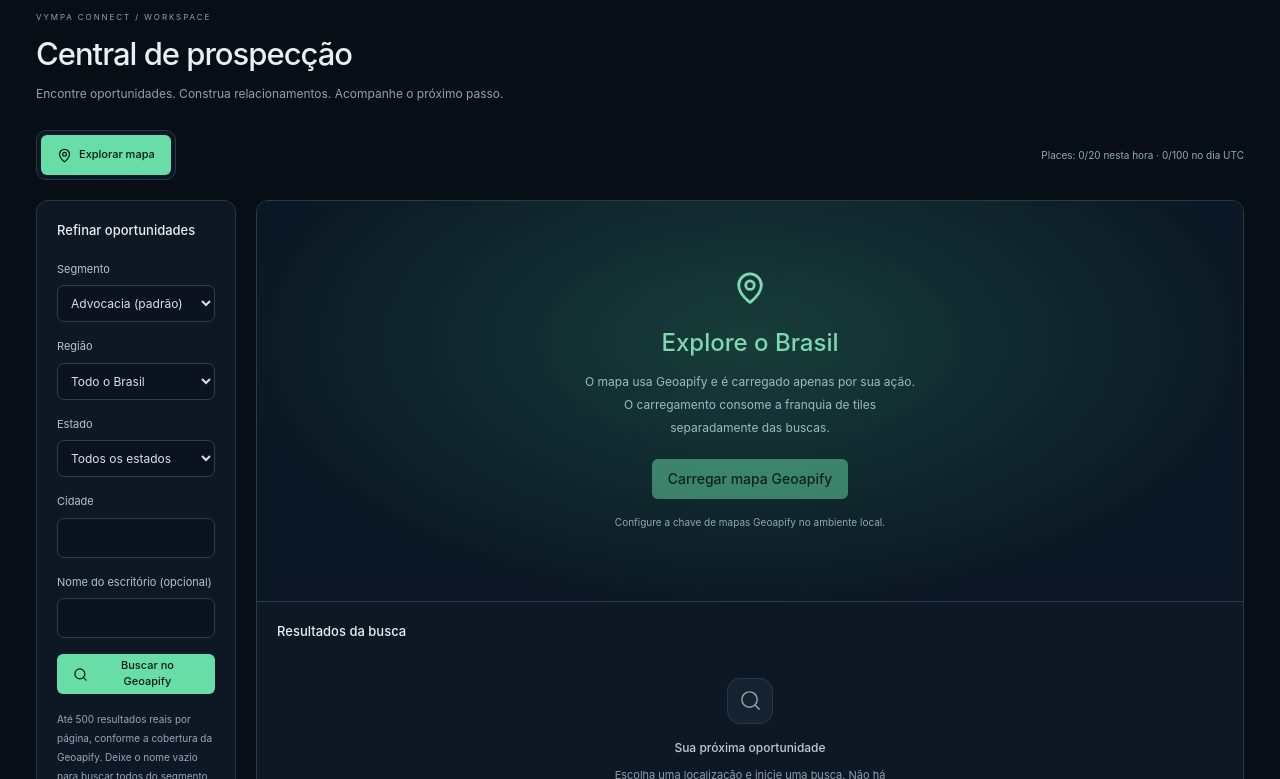
Scenario: resposta atrasada de detalhes não muda seleção atual
Click the button "Buscar no Geoapify" at (136, 674), box [57,654,215,694]
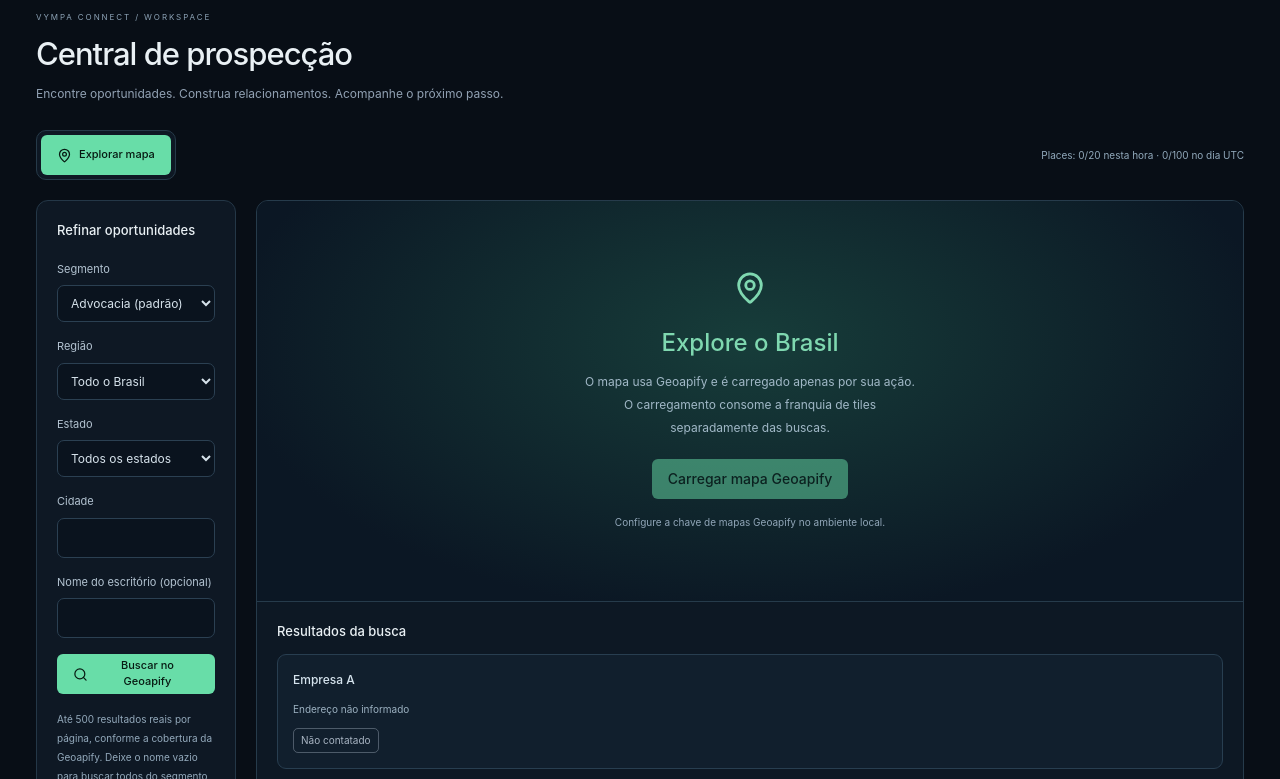
Click the button "Empresa A Endereço não informado Não contatado" at (324, 679), box [277,654,1223,769]
(page scrolled)
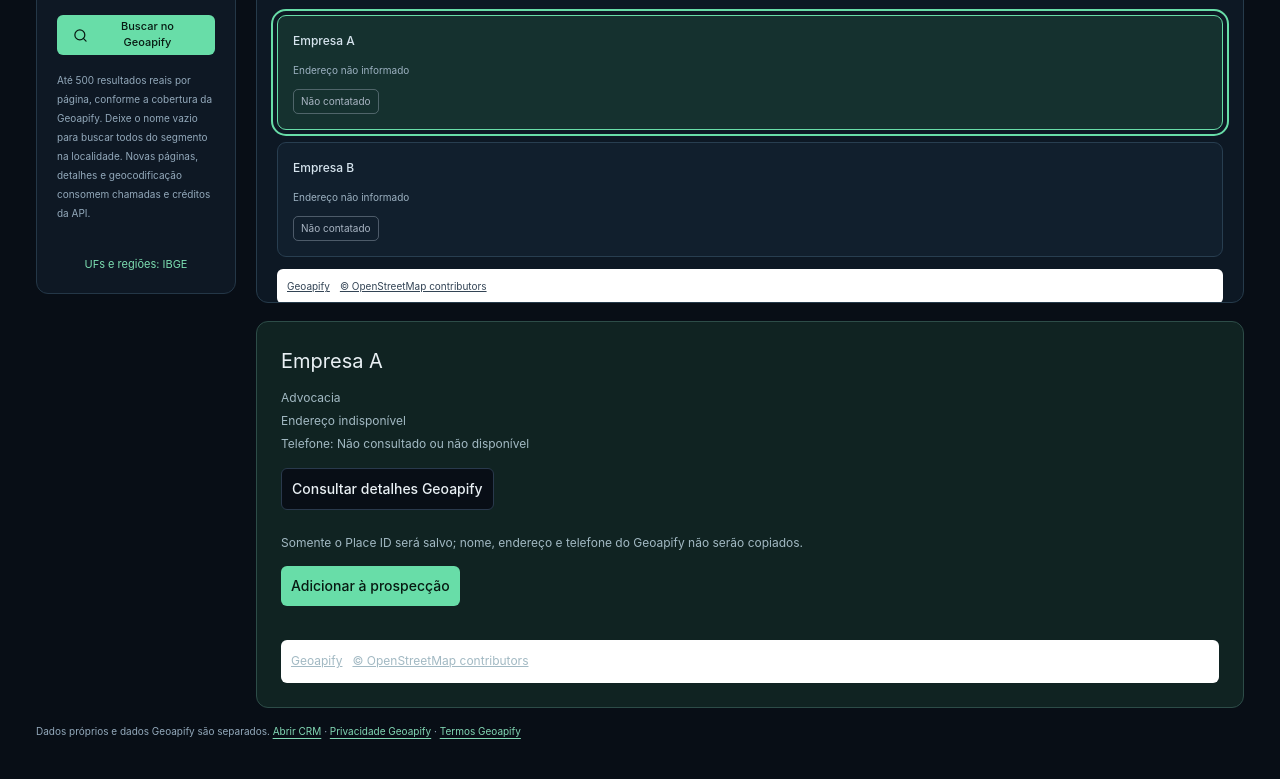
Click the button "Consultar detalhes Geoapify" at (387, 488), box [281,468,494,510]
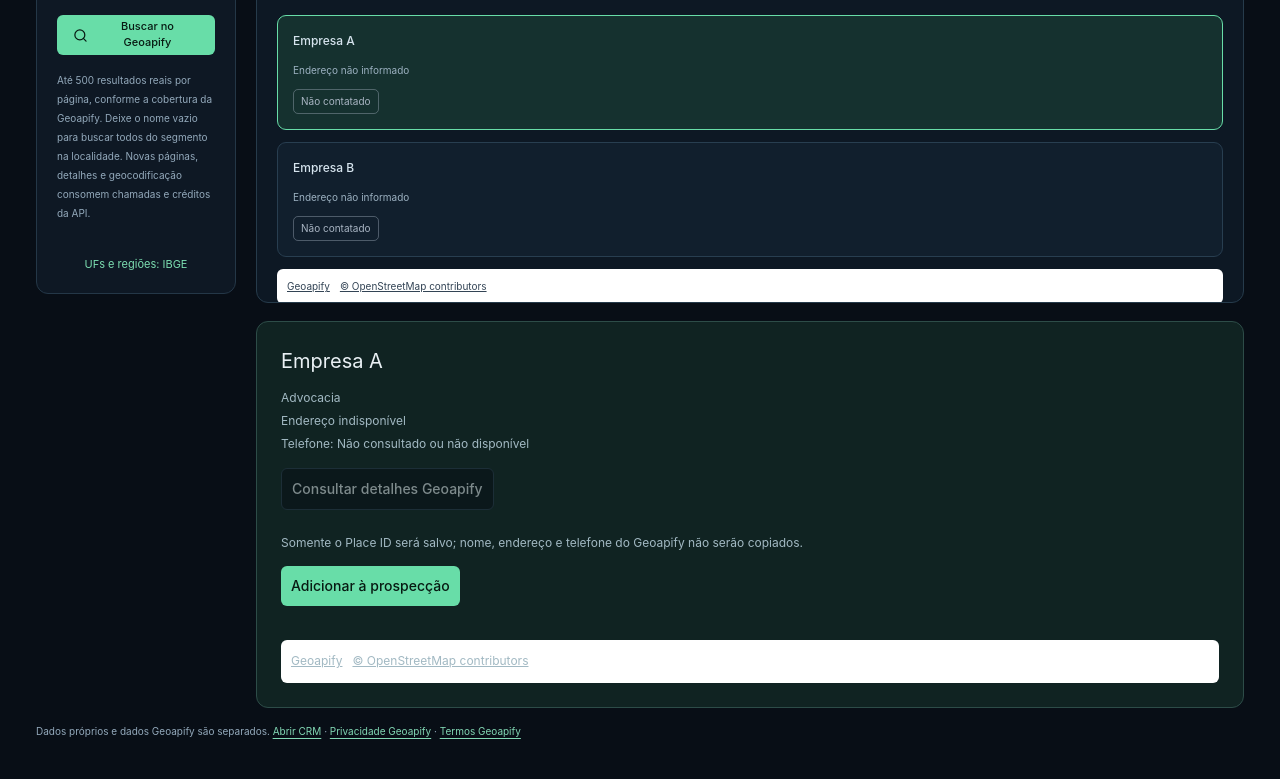
Click the button "Empresa B Endereço não informado Não contatado" at (324, 168), box [277,142,1223,257]
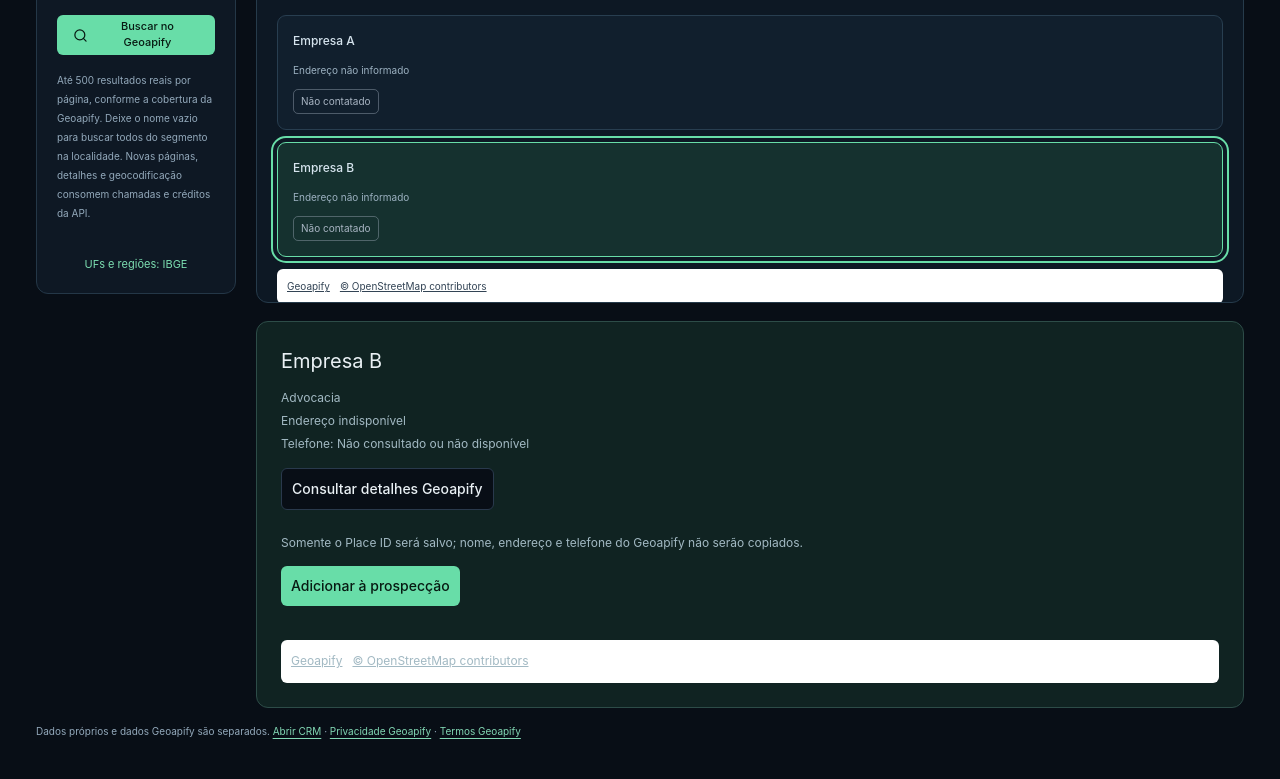
Now the heading "Empresa B" is shown, box [281,349,382,373]
